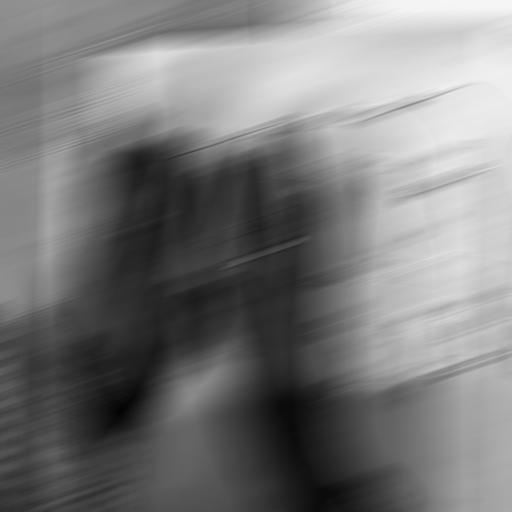bottom_left: (123, 491, 149, 498)
bus: (116, 91, 506, 426)
top_left: (102, 45, 127, 49)
top_right: (485, 15, 511, 22)
